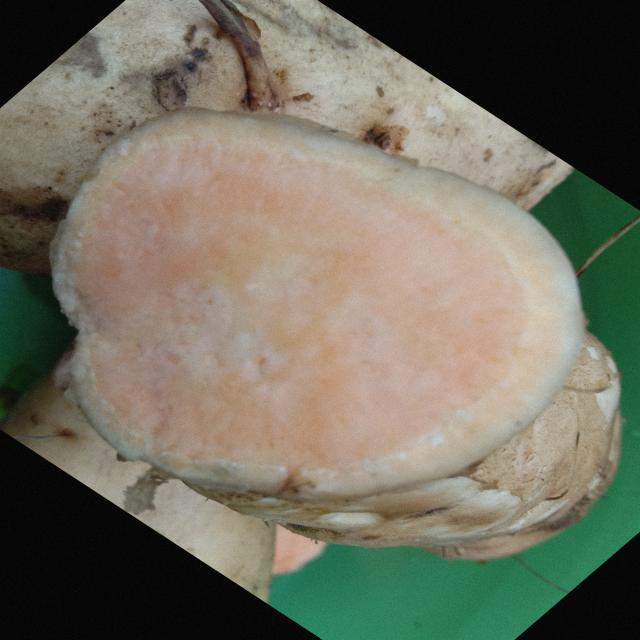Healthy Sweet Potato: (52, 109, 583, 499)
